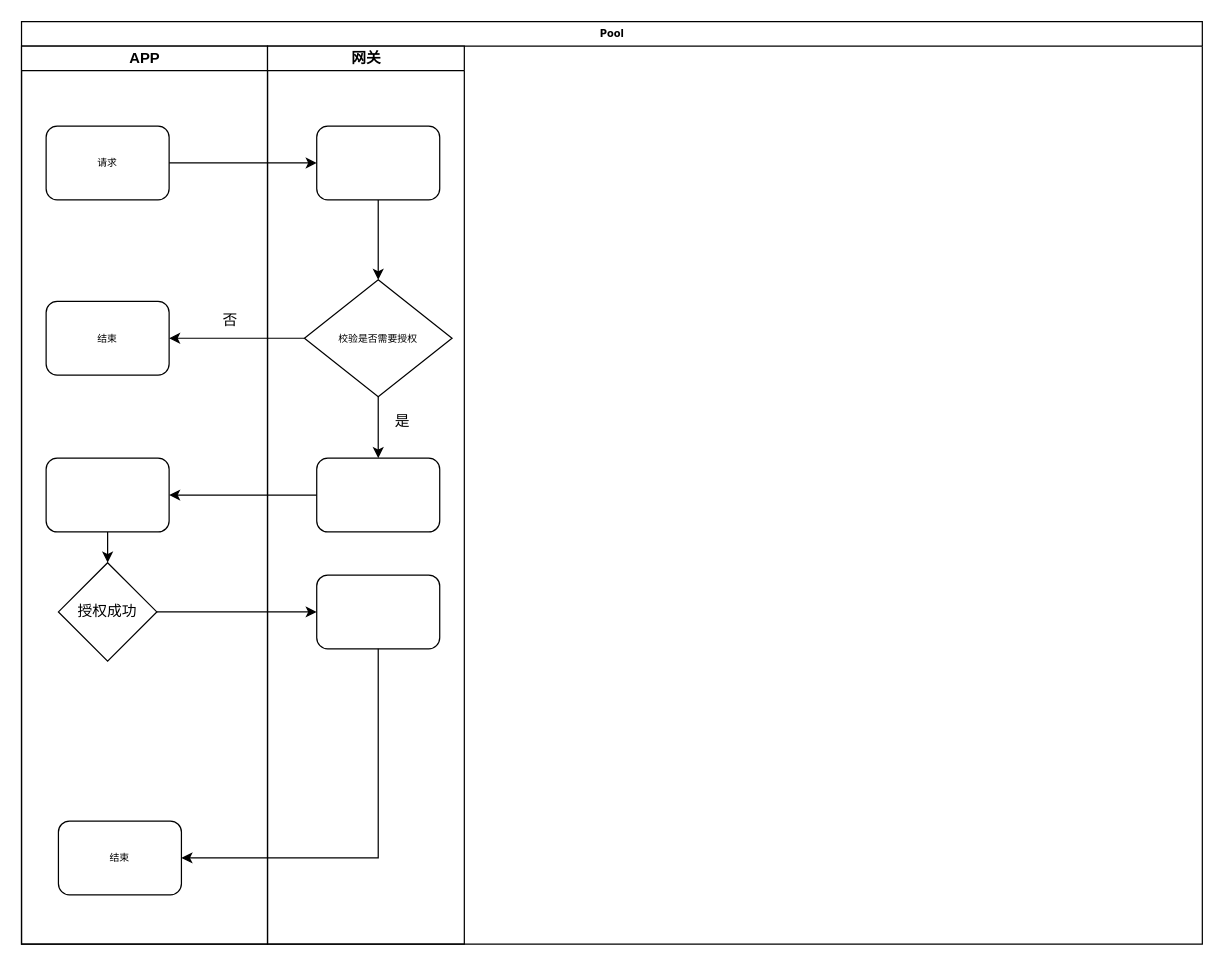
This 1224x966 diagram has some shape labels left out. Here are the shapes that lost their labels. From the top down, the centre of each, then its label:
At point 377,162: "获取授权配置".
At point 107,494: "弹出授权窗".
At point 377,494: "返回异常".
At point 377,611: "继续执行交易".
